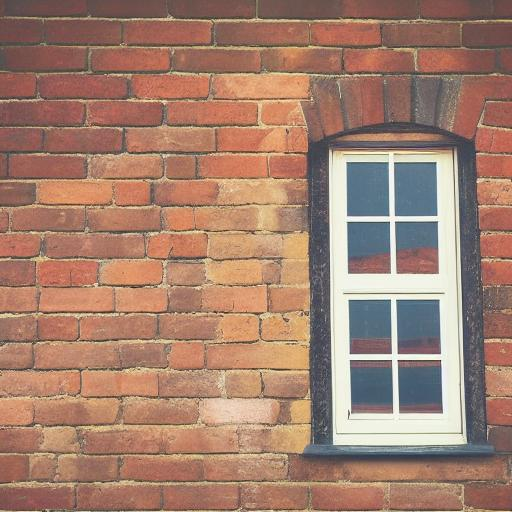Window: (297, 78, 500, 464)
